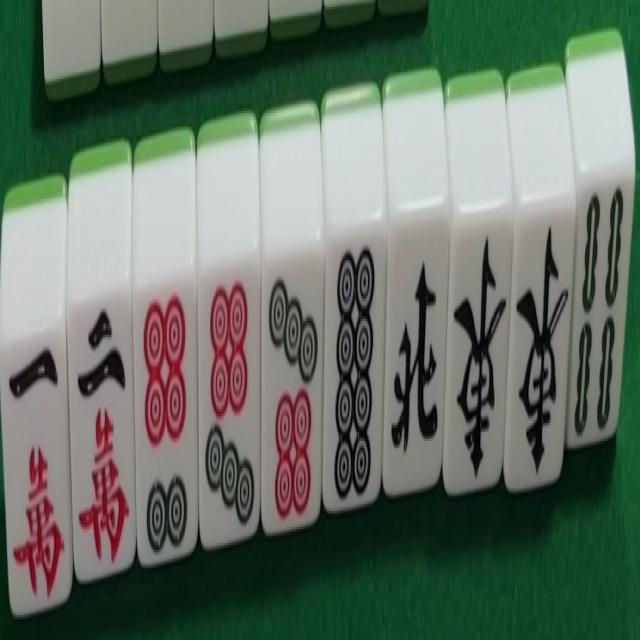east: (510, 199, 572, 480), (448, 216, 510, 482)
m1: (9, 321, 62, 605)
m2: (67, 286, 133, 571)
north: (384, 211, 444, 493)
s4: (570, 172, 629, 450)
t6: (140, 270, 194, 570)
t7: (201, 256, 260, 540), (265, 261, 320, 529)
t8: (324, 237, 381, 508)
